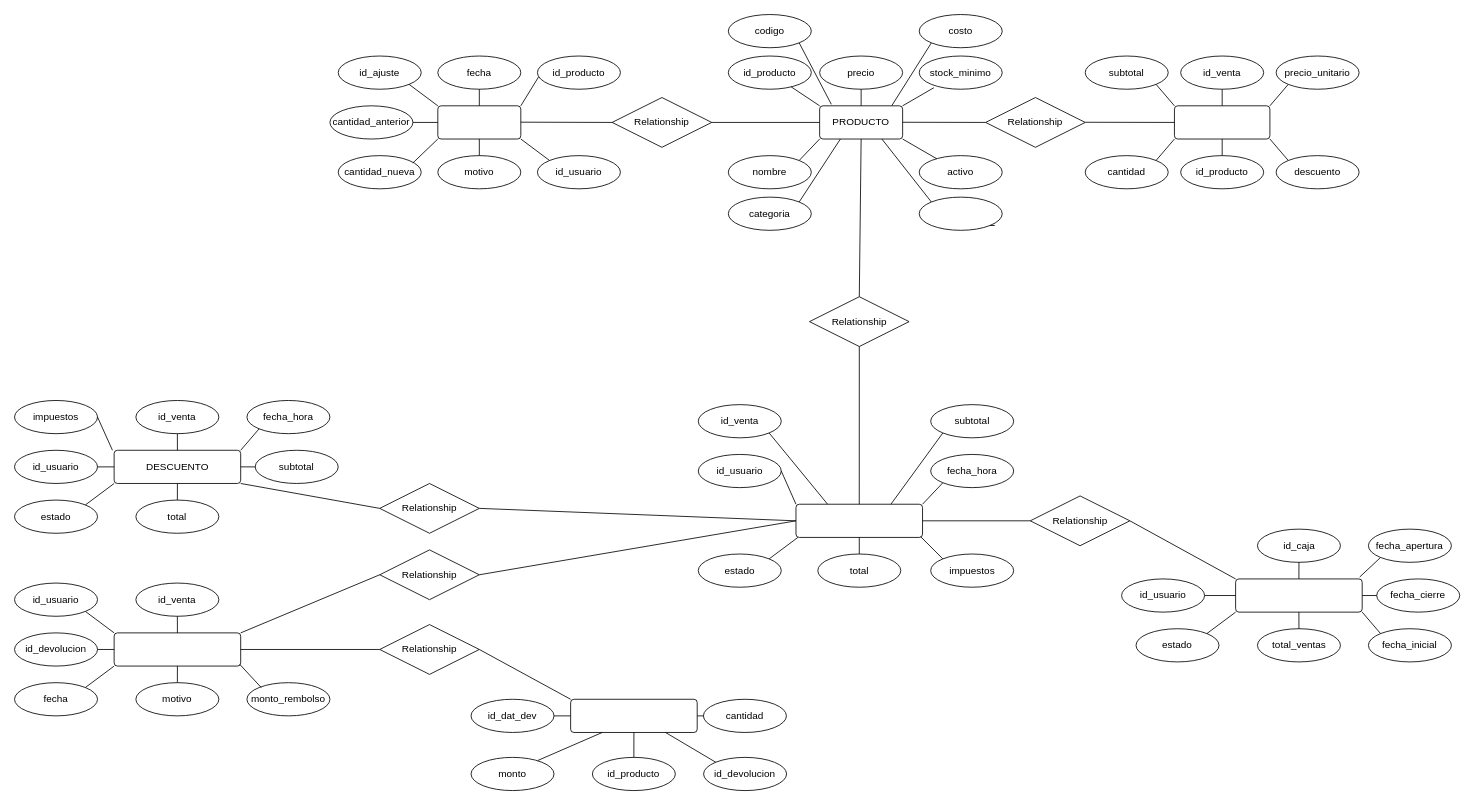
Image size: 1475x805. Some labels were removed from this diagram. Here are the shapes that lost their labels. From the top down, the centre of each, then its label:
At (479,122): "AJUSTE INVENTARIO".
At (1222,122): "DETALLES_VENTA".
At (960,213): "stock_actual".
At (859,520): "VENTA".
At (1298,595): "CAJA".
At (177,649): "DEVOLUCION".
At (633,715): "DATALLE_DEVOLUCION".
